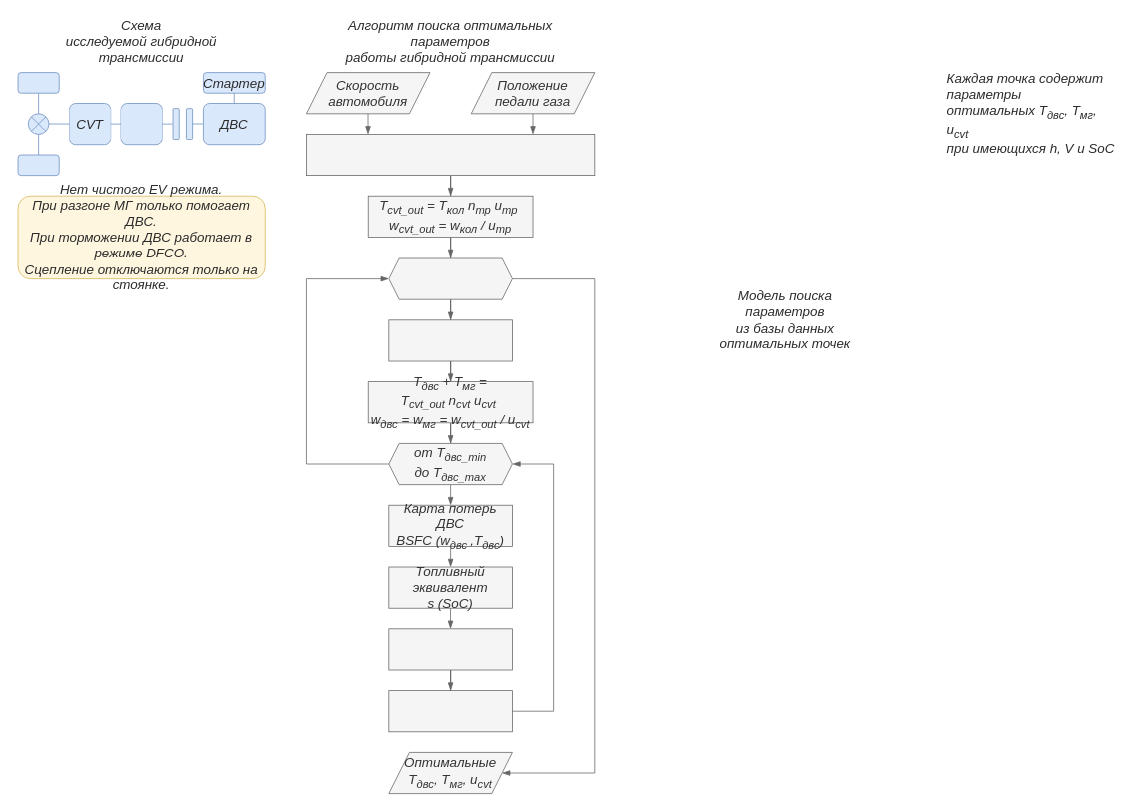
This 1138x812 diagram has some shape labels left out. The shapes that lost their labels are listed below. From the top down, each one's centre as x and y in pixels, then its label:
At (x=141, y=123): "МГ".
At (x=450, y=154): "Требуемые w кол и T кол".
At (x=450, y=278): "от u cvt_min до u cvt_max".
At (x=450, y=340): "Карта потерь CVT n cvt (u cvt , T cvt_out )".
At (x=450, y=649): "Гибридный расход J = bsfc P двс + s P мг".
At (x=450, y=711): "Запоминаем точку J min".
